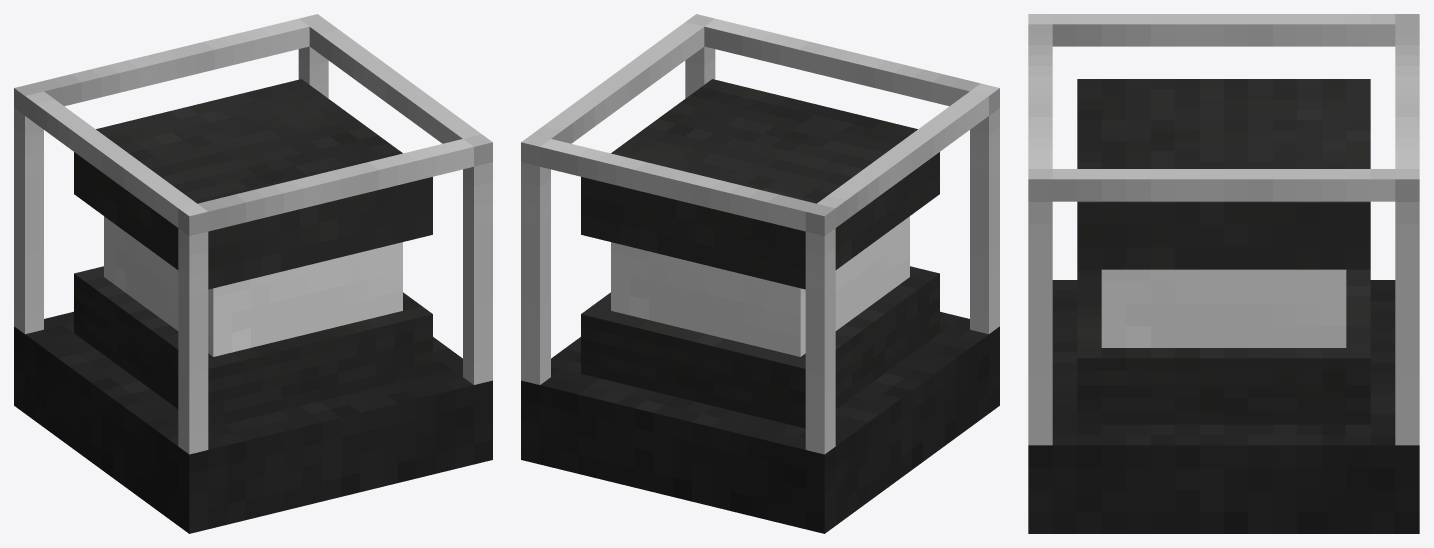
The model's file is nano_bot_beacon.obj.
3 views of the same model, side by side, from view 1: azimuth 30°, elevation 25°; view 2: azimuth 150°, elevation 25°; view 3: azimuth 270°, elevation 25° (orthographic). The views are drawn at different scales.
Visible parts, largest first — view 1: Base, Core_2, Core_1, Anim, rod_6, rod_5, rod_2, rod_3, rod_1, rod_7, rod_8, rod_4; view 2: Base, Core_2, Core_1, Anim, rod_5, rod_6, rod_1, rod_4, rod_2, rod_7, rod_8, rod_3; view 3: Base, Core_2, Core_1, Anim, rod_7, rod_8, rod_3, rod_4, rod_5, rod_6.
Boxes of the visible parts, x1,y1,x2,y2 form: Base: (14,311,492,533); Core_2: (74,79,432,289); Core_1: (74,266,432,428); Anim: (104,216,402,356); rod_6: (198,139,473,231); rod_5: (33,18,309,106); rod_2: (178,203,208,454); rod_3: (463,134,492,384); rod_1: (14,83,43,334); rod_7: (25,91,196,227); rod_8: (309,22,481,143); rod_4: (298,14,328,98); Base: (521,311,999,533); Core_2: (581,79,939,289); Core_1: (581,266,939,428); Anim: (611,216,909,356); rod_5: (540,139,815,231); rod_6: (704,18,980,106); rod_1: (805,203,835,454); rod_4: (521,134,550,384); rod_2: (970,83,999,334); rod_7: (817,91,988,227); rod_8: (532,22,704,143); rod_3: (685,14,715,98); Base: (1028,280,1419,533); Core_2: (1077,79,1370,269); Core_1: (1077,269,1370,424); Anim: (1101,269,1346,347); rod_7: (1052,14,1395,46); rod_8: (1052,169,1395,201); rod_3: (1028,169,1052,445); rod_4: (1395,169,1419,445); rod_5: (1395,24,1419,168); rod_6: (1028,24,1052,168).
Bounding box in the file's own units: 1 × 1 × 1.
